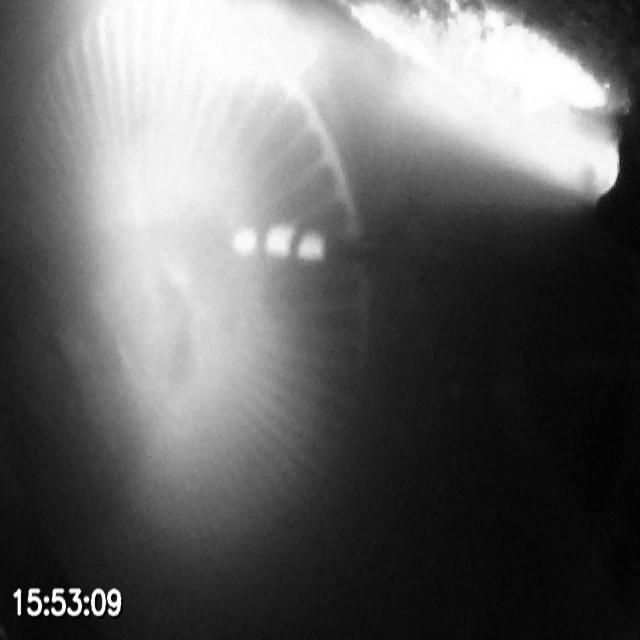white-dots: (230, 222, 328, 262)
